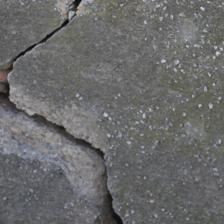Crack: (44, 53, 118, 175), (25, 0, 66, 147)
